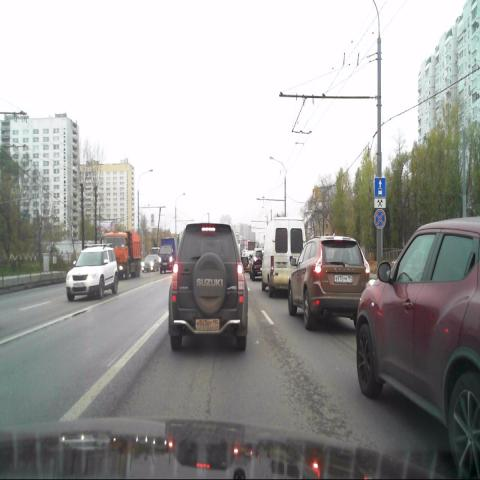3_27: (374, 209, 386, 230)
5_14: (374, 177, 386, 198)
